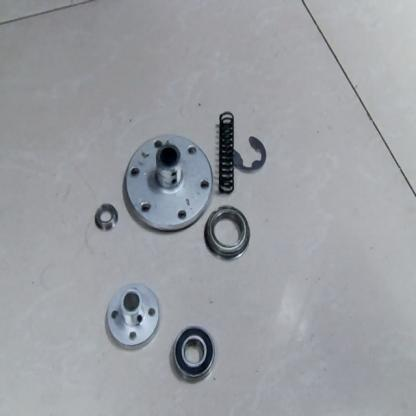FOD: (121, 129, 215, 238), (102, 280, 163, 353), (202, 203, 252, 262), (172, 323, 218, 382), (215, 107, 237, 196), (229, 134, 268, 178), (93, 200, 118, 234)
